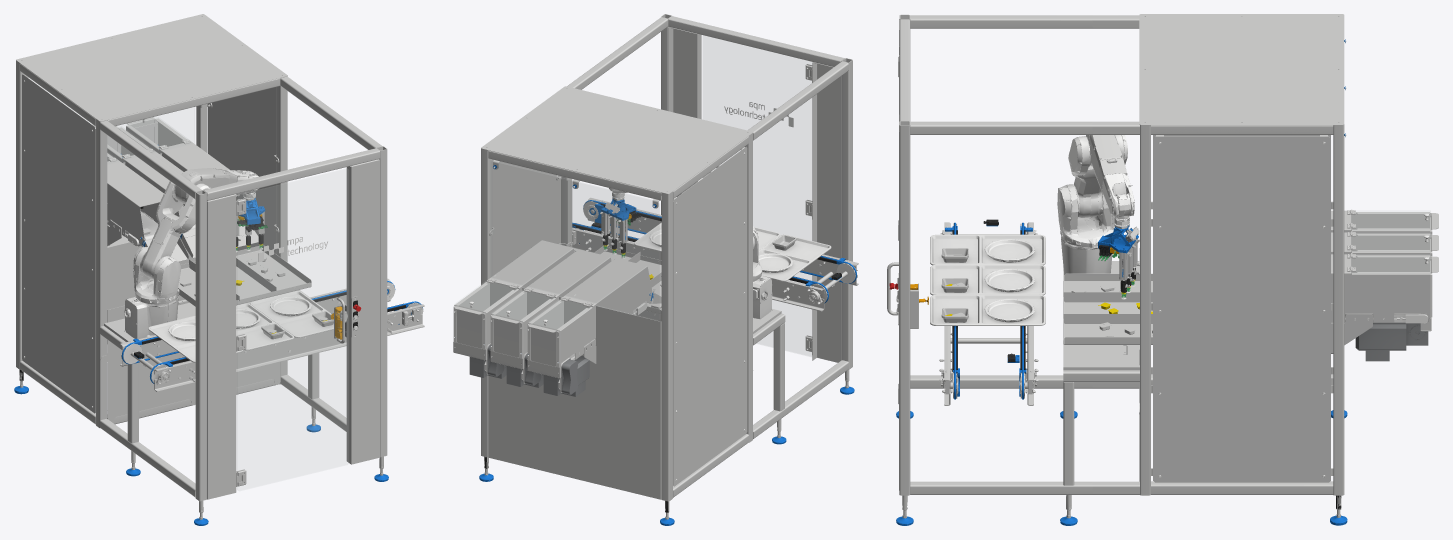
The model's file is Aufleger_Modul_5_prospekt.glb.
The picture shows the model from 3 angles, left to right: view 1: azimuth 30°, elevation 25°; view 2: azimuth 150°, elevation 25°; view 3: azimuth 270°, elevation 25°; orthographic projection. The views are drawn at different scales.
Visible parts, largest first — view 1: Edelstahl, Glas, Weiss, Blau, Schwarz; view 2: Edelstahl, Glas, Weiss, Grau, Blau, Schwarz; view 3: Edelstahl, Weiss, Glas, Grau, Blau, Schwarz.
Boxes of the visible parts, x1,y1,x2,y2 form: Edelstahl: (16,14,424,519); Glas: (29,78,348,490); Weiss: (24,80,423,407); Blau: (14,145,422,525); Schwarz: (19,206,405,380); Edelstahl: (453,14,858,519); Glas: (454,35,812,356); Weiss: (453,102,857,480); Grau: (469,344,589,396); Blau: (479,165,856,525); Schwarz: (484,202,841,512); Edelstahl: (887,14,1438,518); Weiss: (896,40,1432,477); Glas: (1352,210,1430,273); Grau: (1355,322,1428,361); Blau: (896,39,1347,525); Schwarz: (897,219,1341,509).
Size of the model in its own units: 1.74 by 2.02 by 2.52.
Materials: 11 (9 with a texture image).
